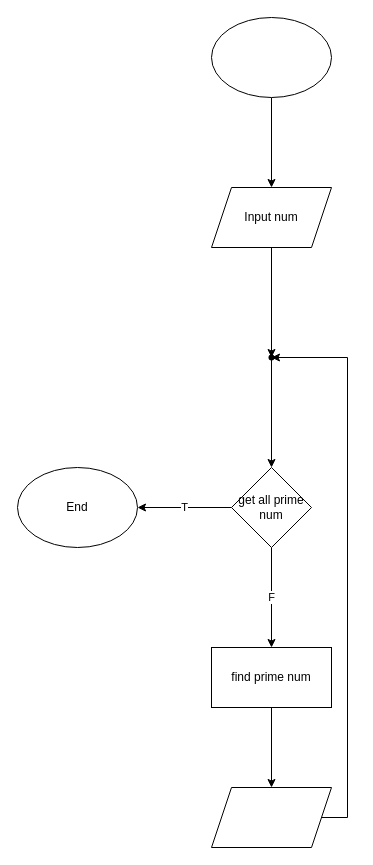
This 373x865 diagram has some shape labels left out. Here are the shapes that lost their labels. From the top down, the box of each, then its label:
(210, 16, 332, 98): Start
(210, 786, 332, 848): Output prime num
